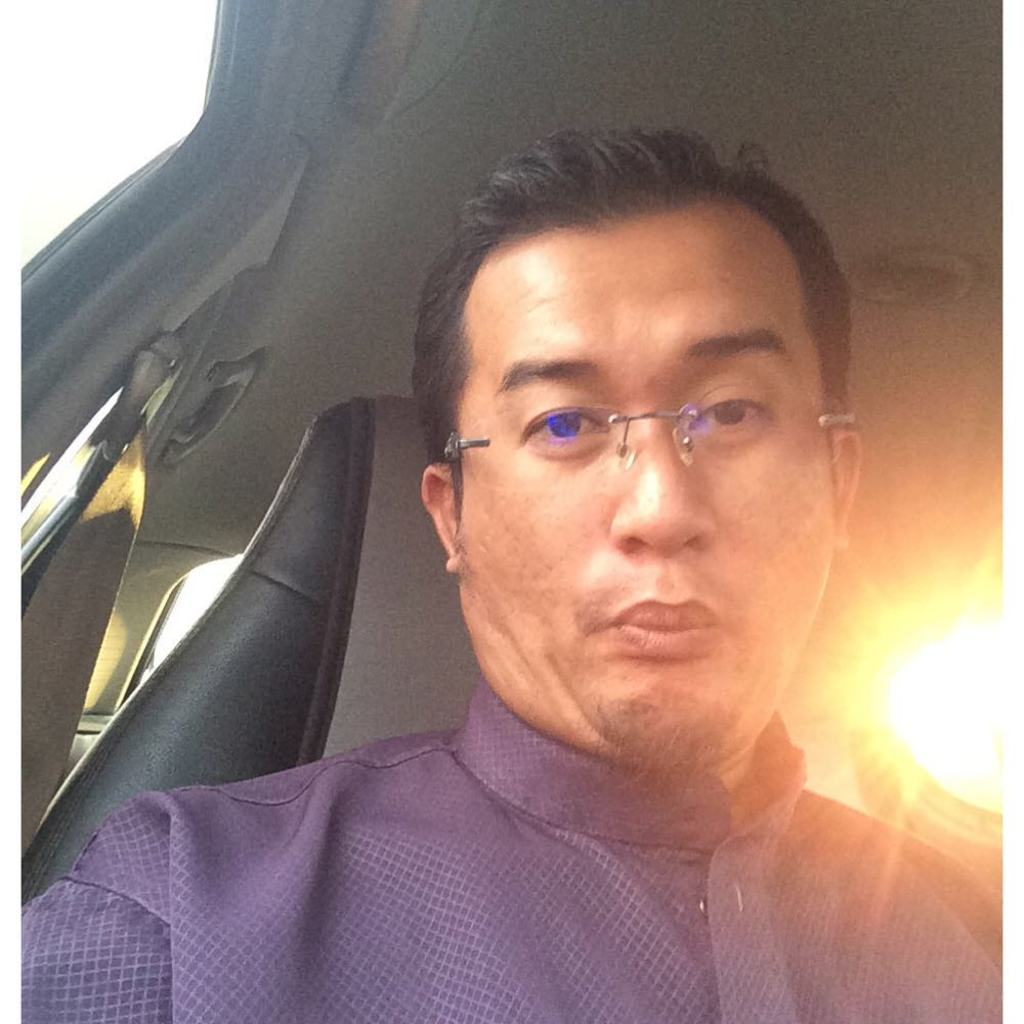Human-face: (453, 211, 842, 760)
